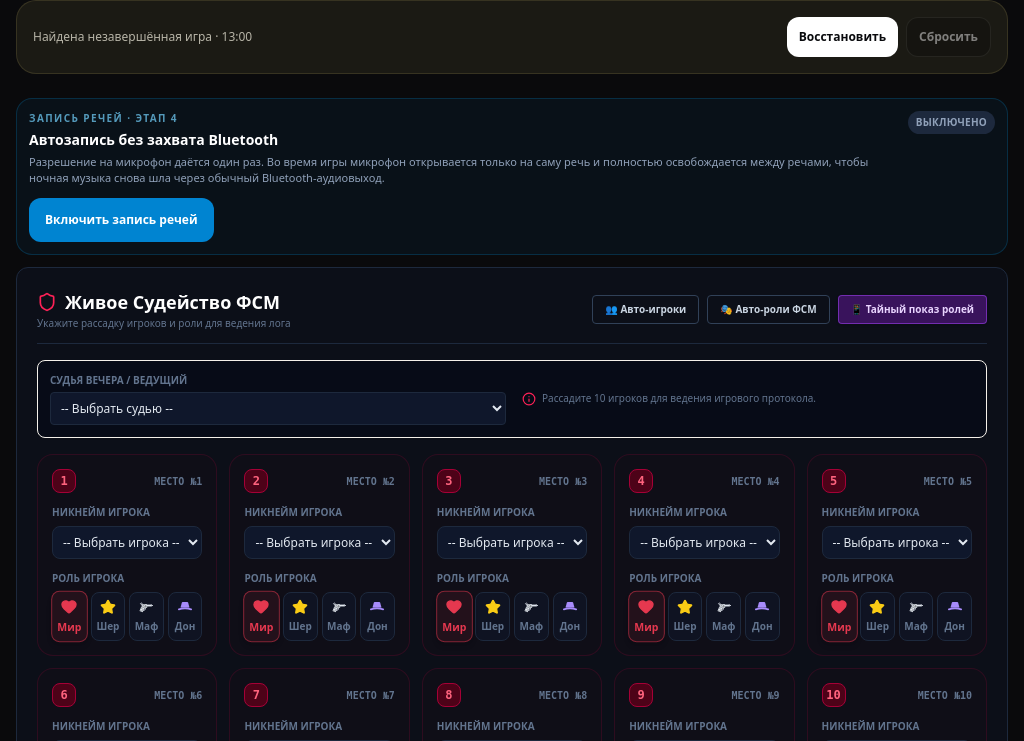
Scenario: Live Game: announcement step before a voting › goes from the last speech to the announcement, then starts the voting
The image size is (1024, 741).
What coordinates should you click on to do the following:
click the button "Восстановить"
I would click on:
 (842, 37)
Its box is [787, 17, 898, 57].
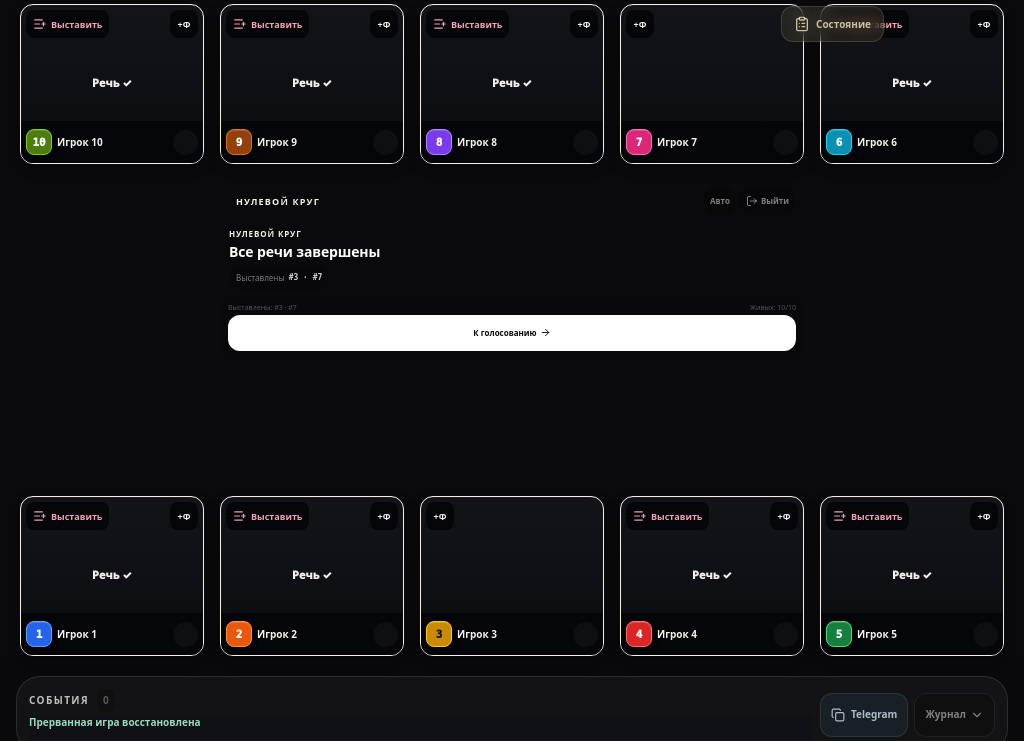
What coordinates should you click on to do the following:
click the button "К голосованию"
I would click on:
 (512, 333)
Its box is [228, 315, 796, 351].
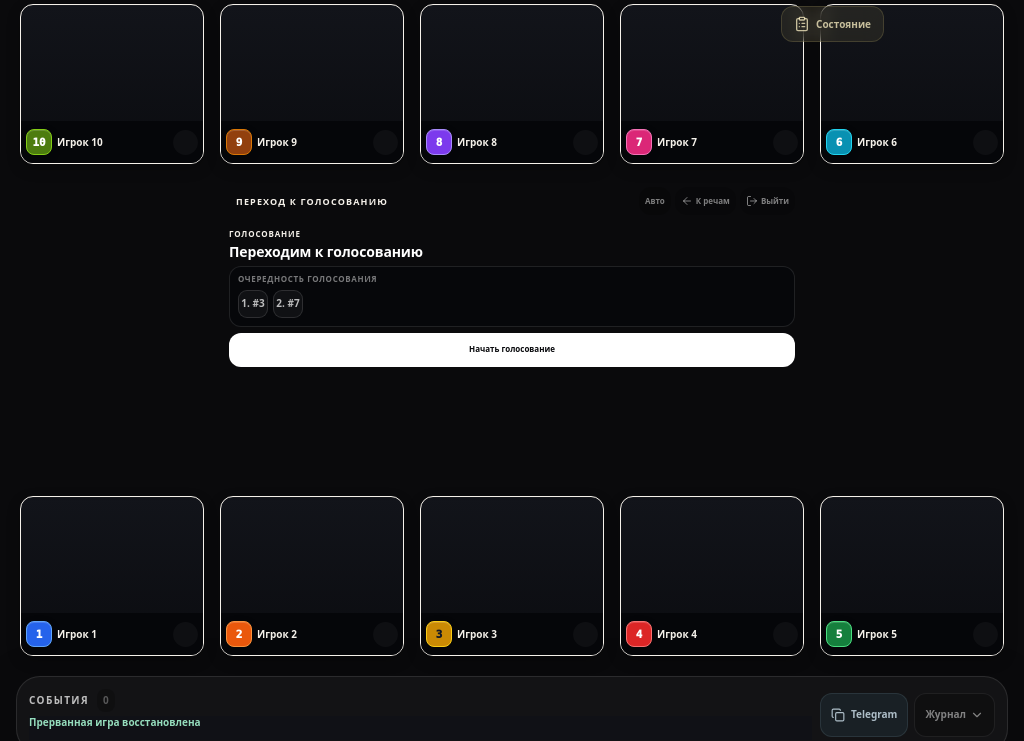
Result: the element with test id "live-voting-announcement" shows "#3" at [229, 229, 795, 367]
Result: the element with test id "live-voting-announcement" shows "#7" at [229, 229, 795, 367]
Result: the element with test id "live-voting-announcement" shows "Переходим к голосованию" at [229, 242, 423, 261]
What coordinates should you click on to do the following:
click the button with test id "live-voting-start"
I would click on:
 (512, 350)
Its box is [229, 333, 795, 367].
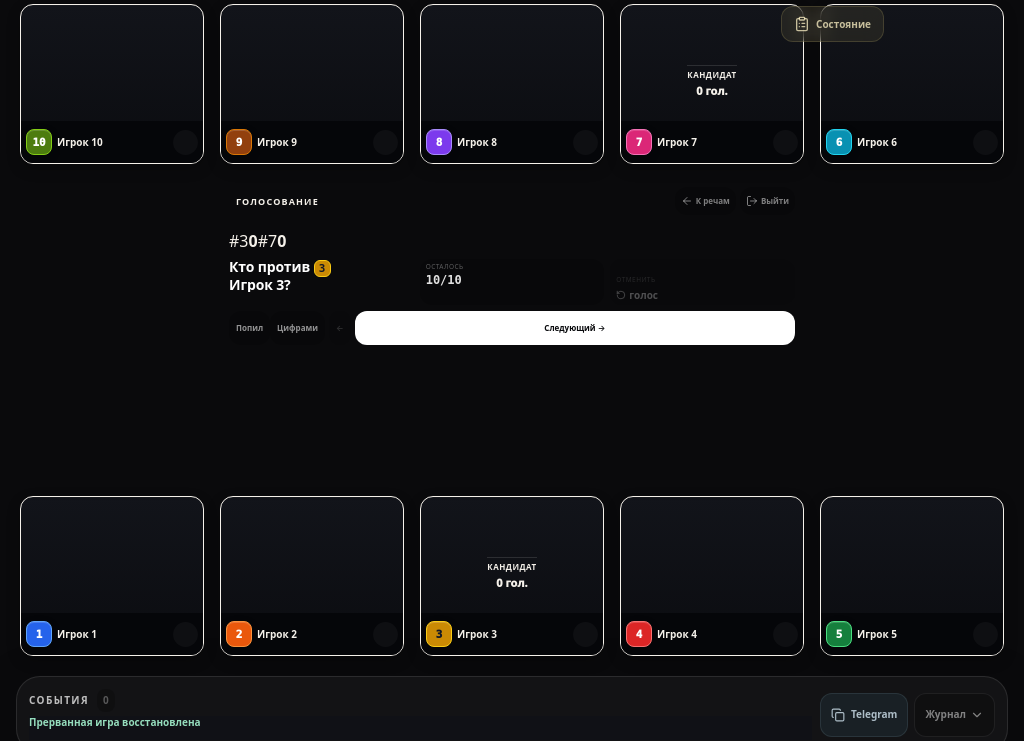
Result: the text "Кто против 3" is shown at [229, 257, 331, 276]
